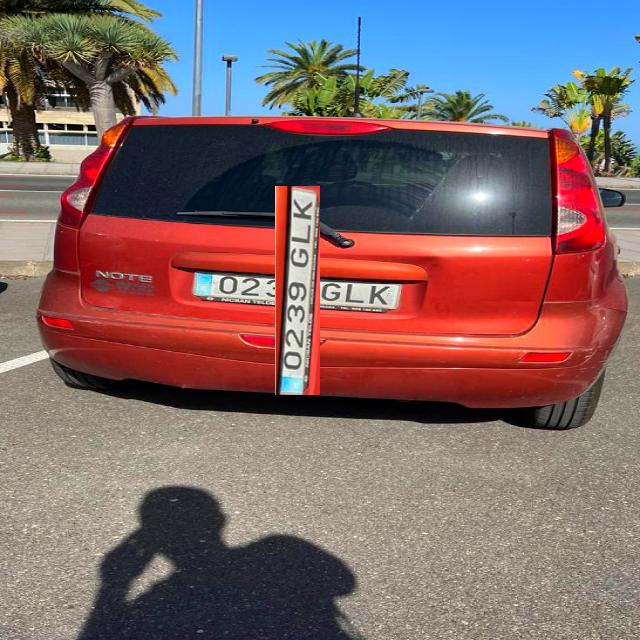License-Plate: (234, 227, 362, 354)
